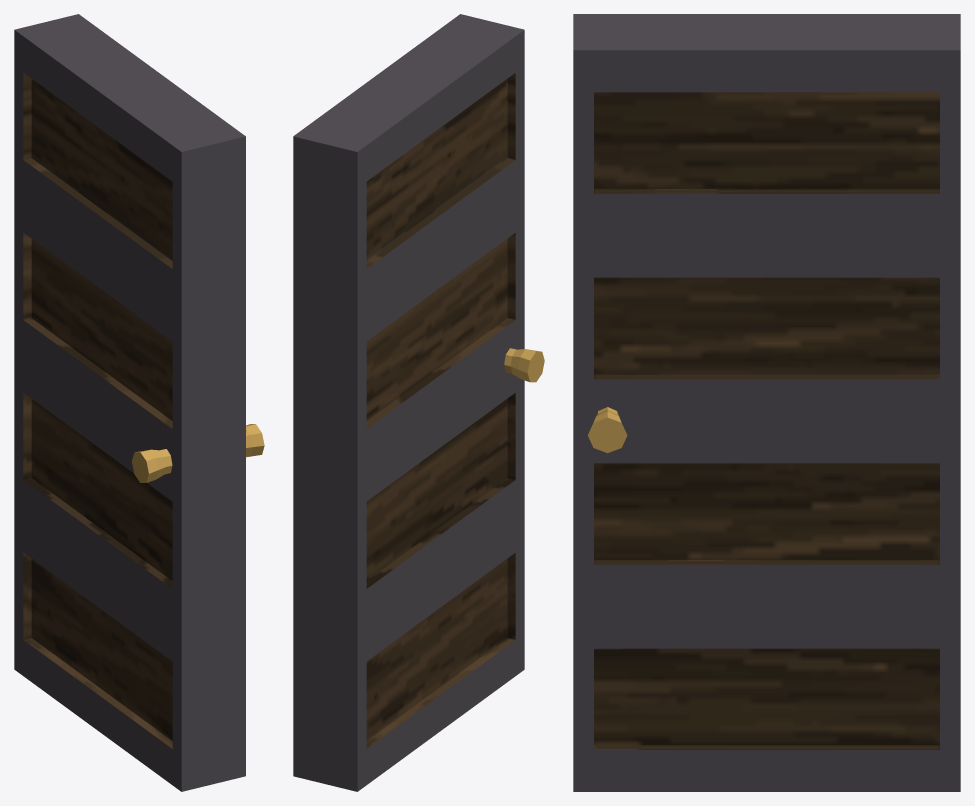
The model's file is Door_V4.fbx.
3 views of the same model, side by side, from view 1: azimuth 30°, elevation 25°; view 2: azimuth 150°, elevation 25°; view 3: azimuth 270°, elevation 25° (orthographic). The views are drawn at different scales.
Parts seen in each view (by area): view 1: Door.001; view 2: Door.001; view 3: Door.001.
Boxes of the visible parts, <box> form: Door.001: <box>14,14,264,791</box>; Door.001: <box>293,14,544,791</box>; Door.001: <box>573,14,960,791</box>.
Size of the model in its own units: 17.97 by 95 by 45.
